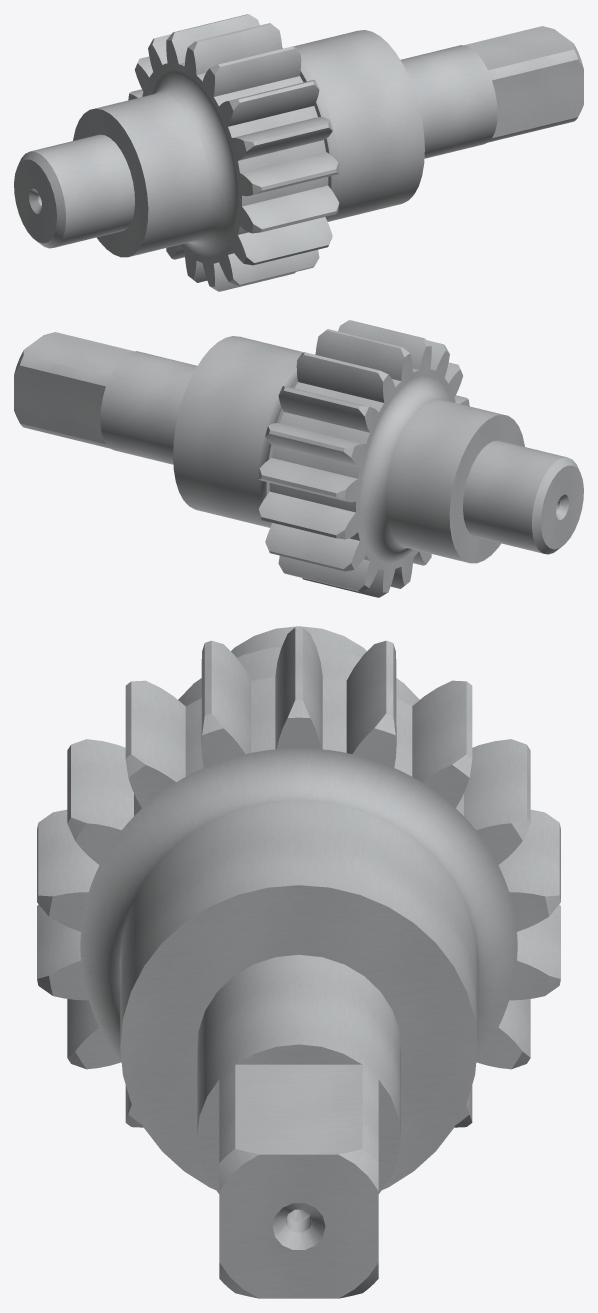
Rendered from aci.glb.
The picture shows the model from 3 angles, top to bottom: view 1: azimuth 30°, elevation 25°; view 2: azimuth 150°, elevation 25°; view 3: azimuth 270°, elevation 25°; orthographic projection. The views are drawn at different scales.
Parts seen in each view (by area): view 1: PT3; view 2: PT3; view 3: PT3.
Part boxes in pixels (x1,y1,x2,y2): PT3: (14,14,583,291); PT3: (14,320,583,597); PT3: (37,626,560,1298).
Size of the model in its own units: 2.76 by 1.2 by 1.18.
Materials: 1 (1 with a texture image).
